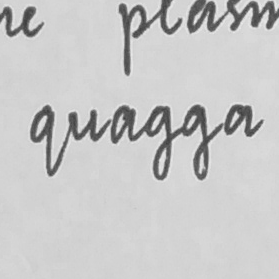a: (107, 102, 138, 146), (222, 102, 255, 138)
g: (180, 103, 212, 183), (143, 103, 175, 182)
q: (28, 102, 60, 179)
u: (66, 105, 100, 143)
